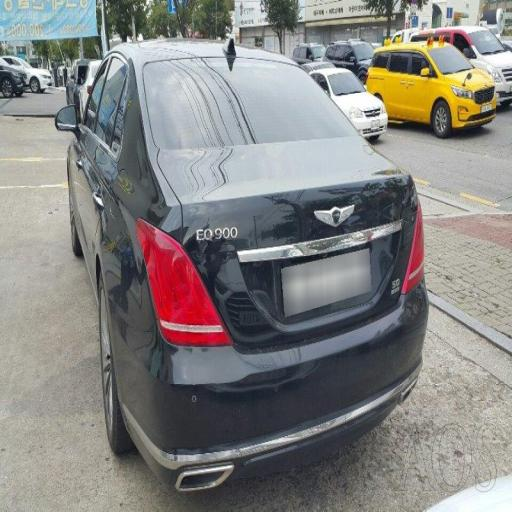dent: (163, 145, 418, 364)
